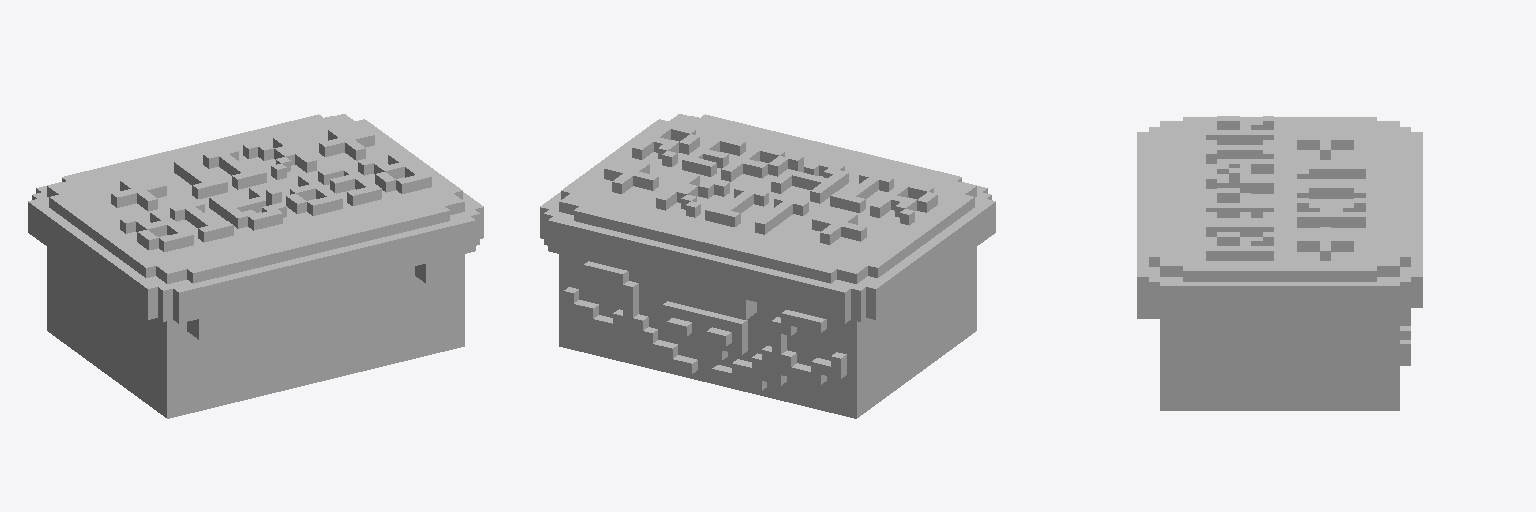
File: RepairKit.obj
The picture shows the model from 3 angles: view 1: azimuth 30°, elevation 25°; view 2: azimuth 150°, elevation 25°; view 3: azimuth 270°, elevation 25°; orthographic projection.
Parts seen in each view (by area): view 1: object 1; view 2: object 1; view 3: object 1.
Boxes of the visible parts, box(x1,y1,x2,y2) form: object 1: box(28, 114, 483, 418); object 1: box(540, 114, 995, 418); object 1: box(1137, 116, 1422, 410).
Bounding box in the file's own units: 3.4 × 1.6 × 2.5.